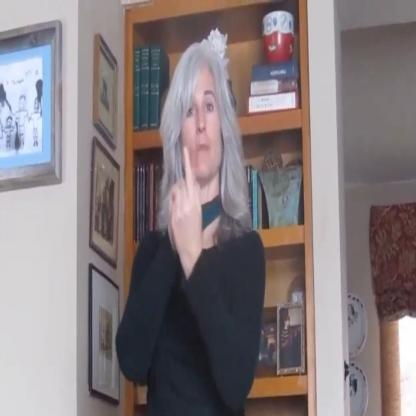NiceToMeetYou: (159, 152, 216, 281)
